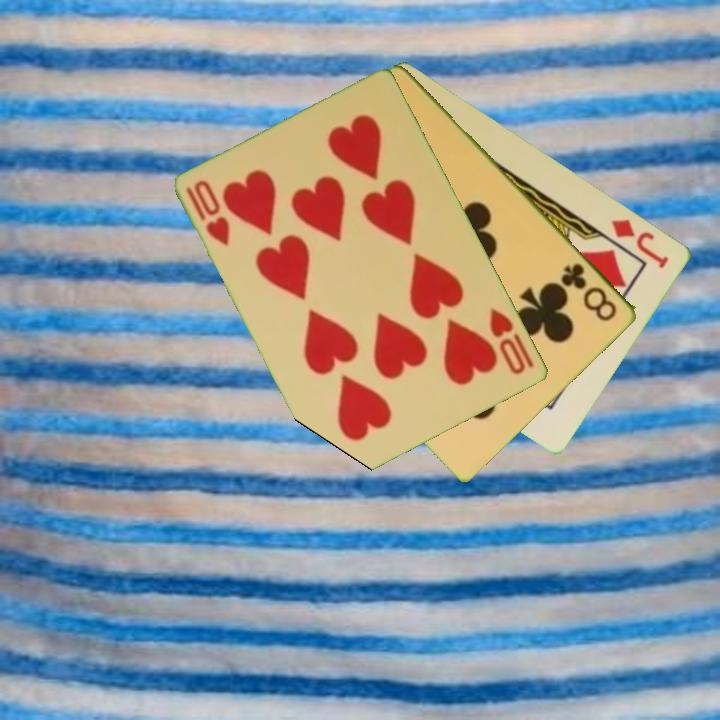10h: (486, 304, 538, 378), (183, 176, 234, 249)
8c: (557, 259, 621, 325)
Jd: (608, 215, 673, 271)
